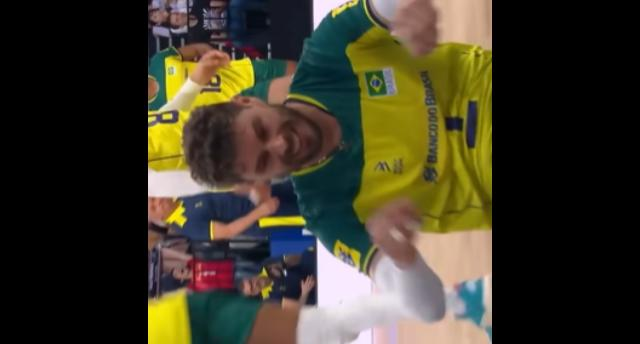Levantador: (171, 0, 492, 326)
